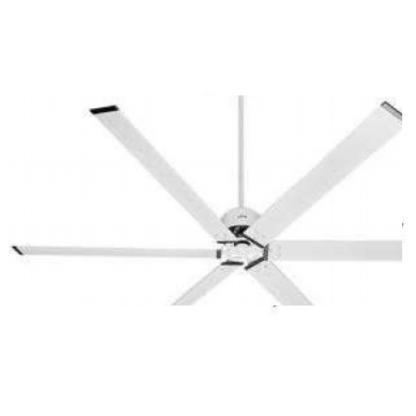ceiling-fan: (9, 95, 403, 306)
